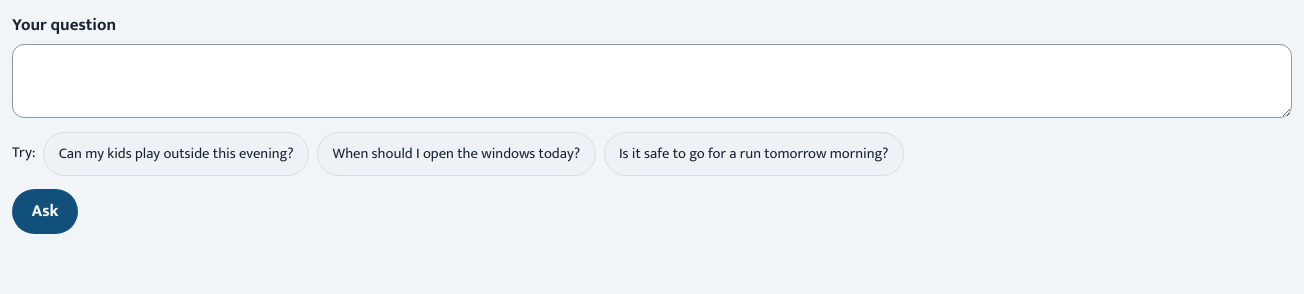
Test: AskPanel › shows errors
Click the button "When should I open the windows today?": (456, 154) left=317, top=132, right=596, bottom=176
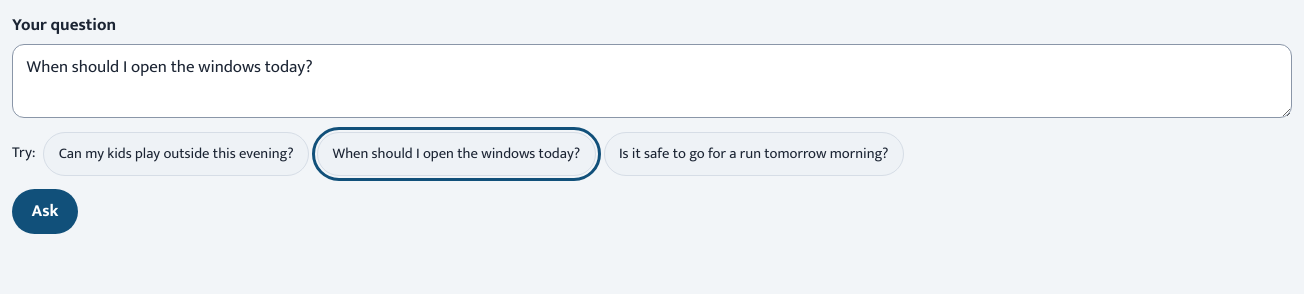
Click the button "Ask": (45, 212) left=12, top=189, right=78, bottom=234
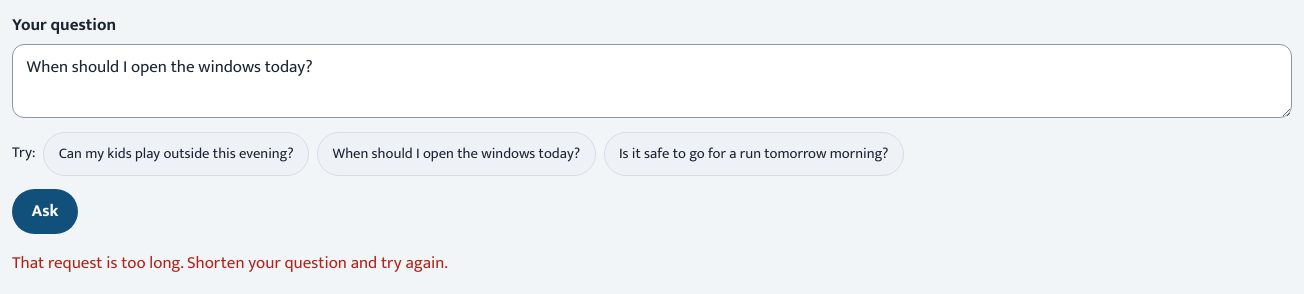
Result: the text "That request is too long" is shown at left=12, top=249, right=448, bottom=277
